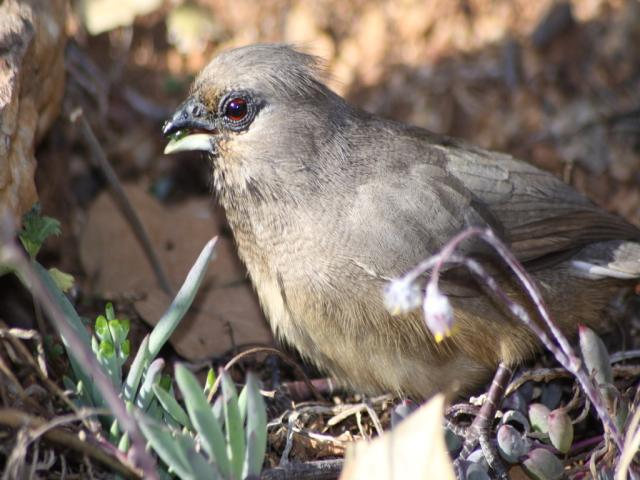Bird: (155, 45, 639, 408)
